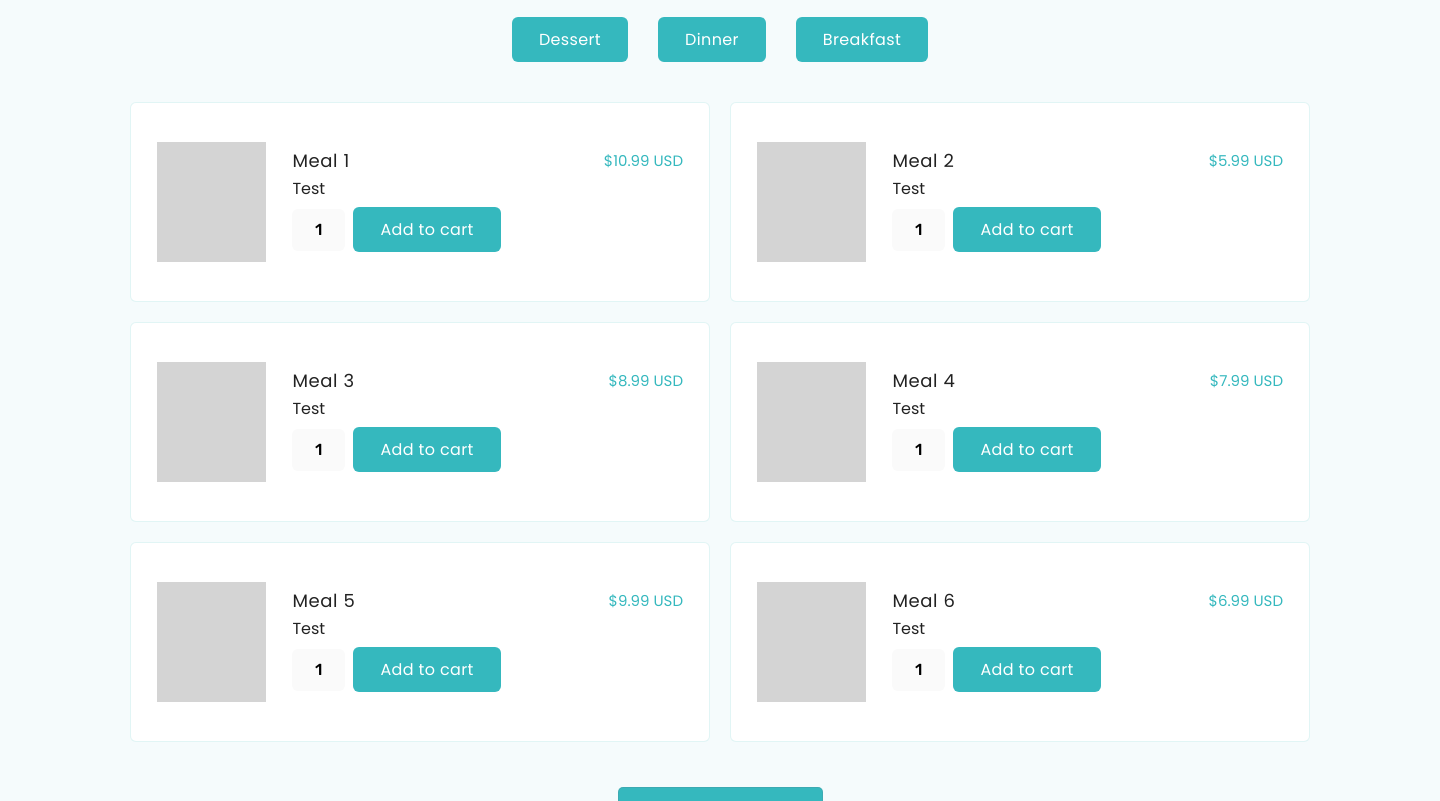
Scenario: MealList Component › filters meals by category
The image size is (1440, 801).
expect the heading "Meal 1" is shown: met, box [292, 152, 350, 170]
expect the heading "Meal 2" is shown: met, box [892, 152, 954, 170]
Click the button "Dessert": {"x": 570, "y": 40} [512, 17, 628, 62]
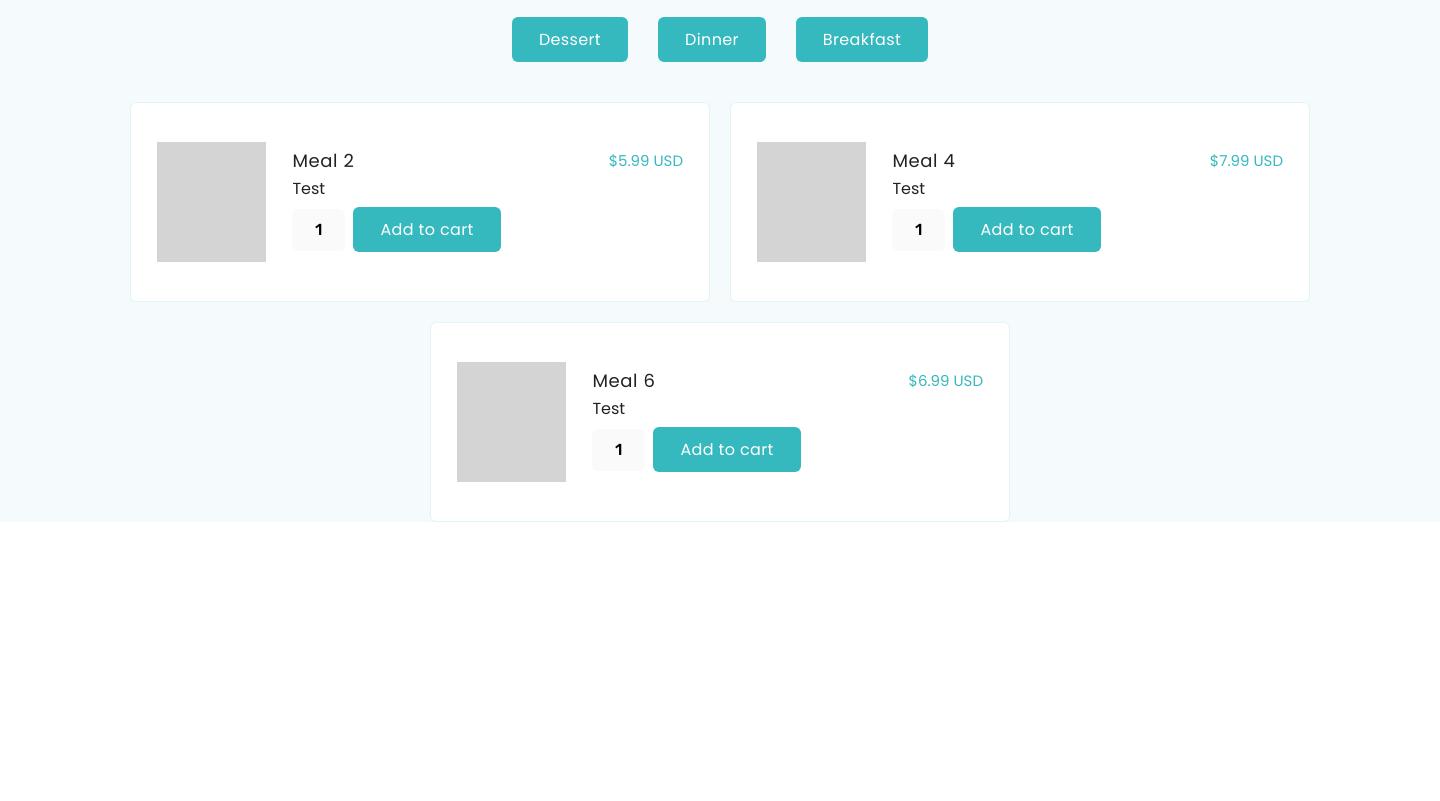
expect the heading "Meal 2" is shown: met, box [292, 152, 354, 170]
expect the heading "Meal 1" is gone: met
